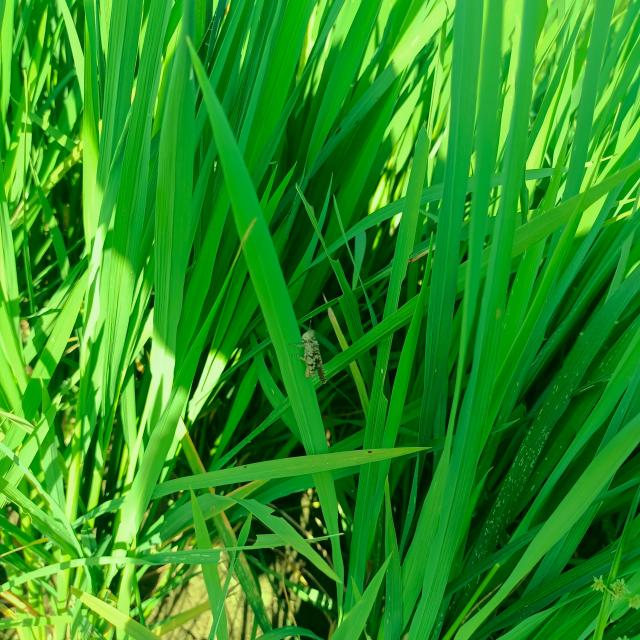belalang pada tanaman padi: (294, 324, 329, 386)
